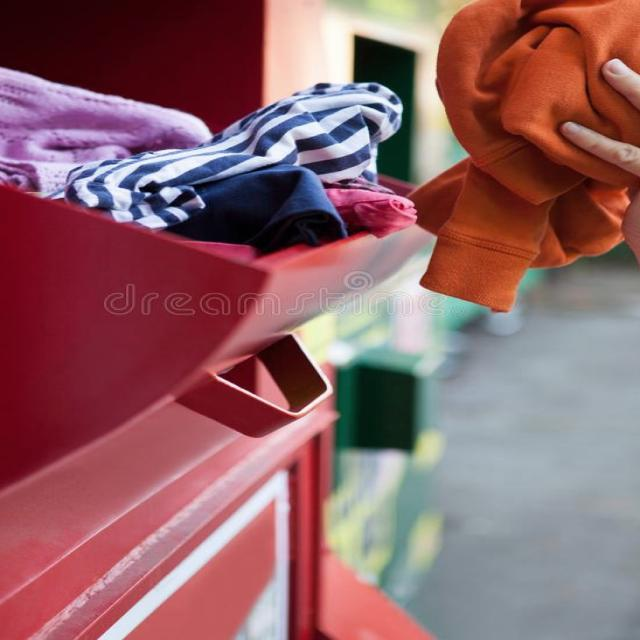clothes: (0, 47, 398, 241), (435, 0, 640, 266)
